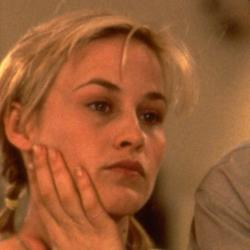face: (2, 6, 198, 221)
